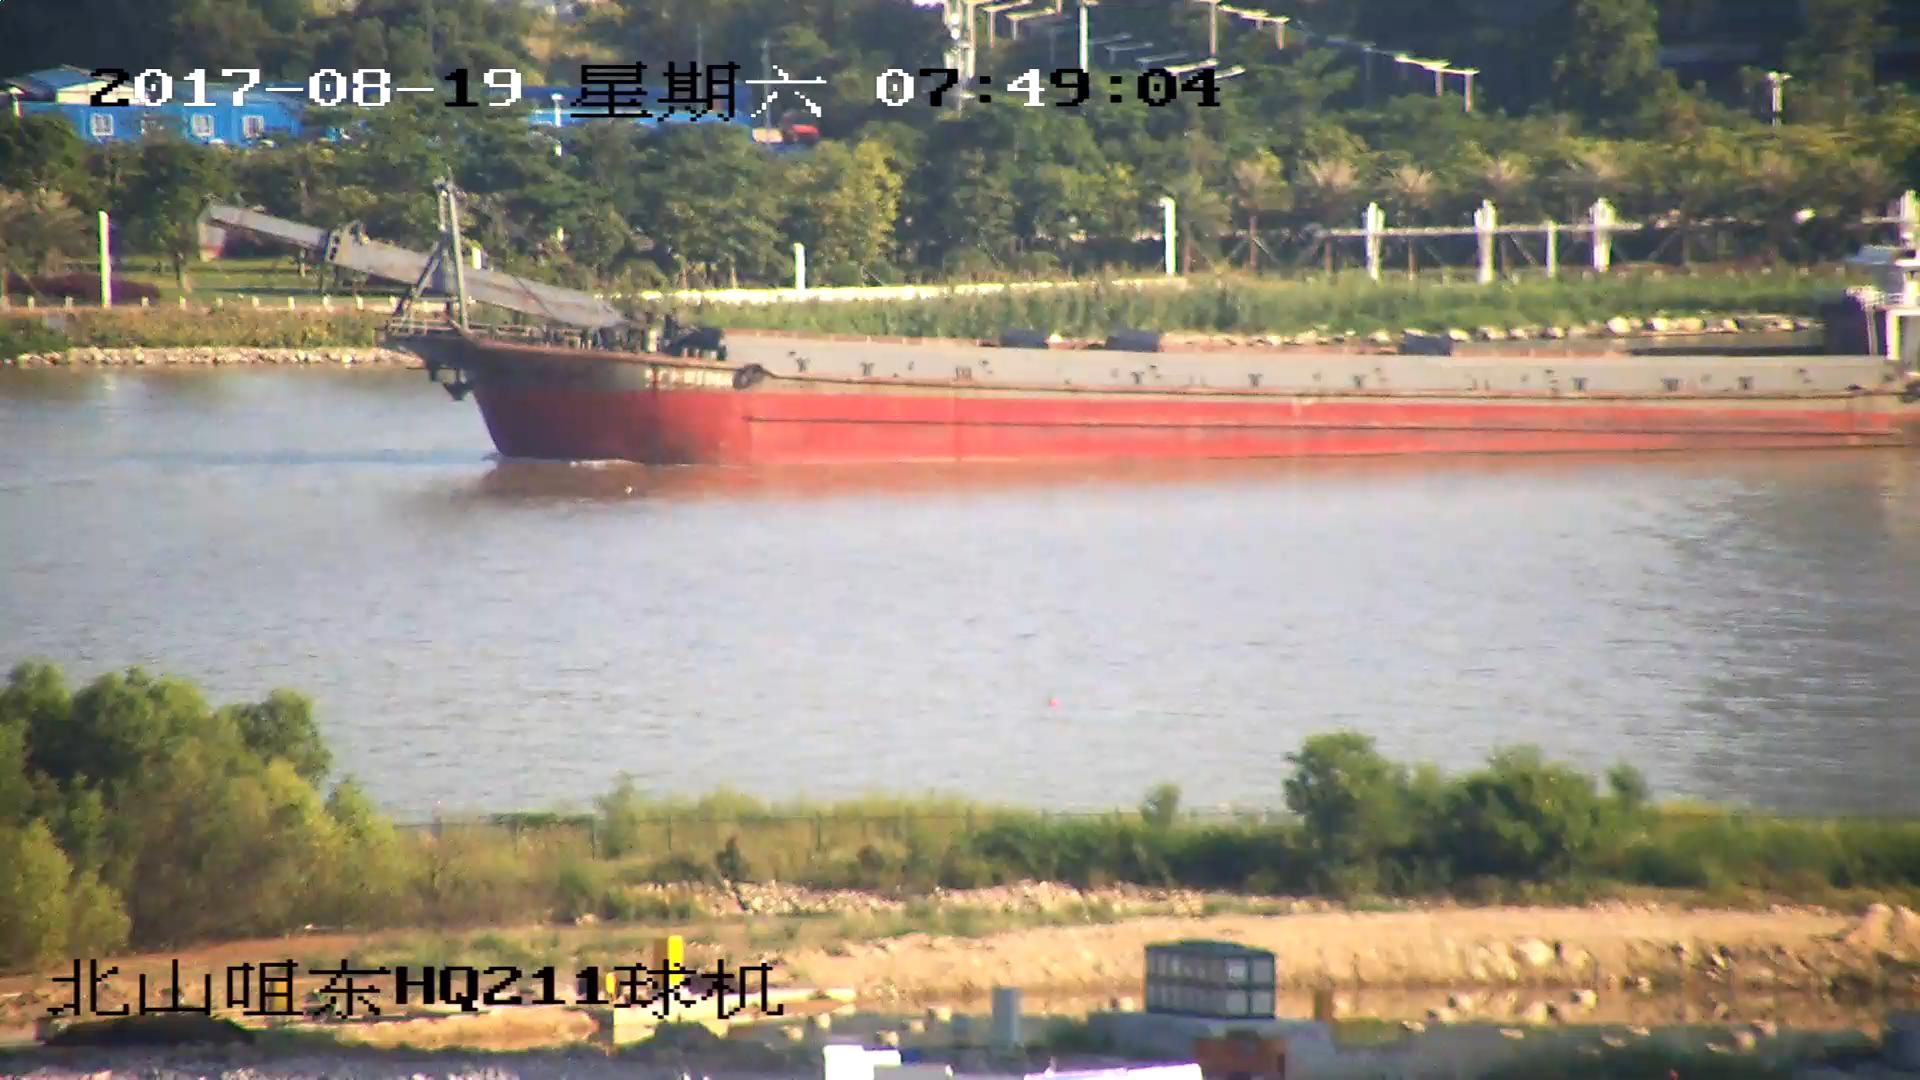bulk cargo carrier: (197, 185, 1920, 456)
